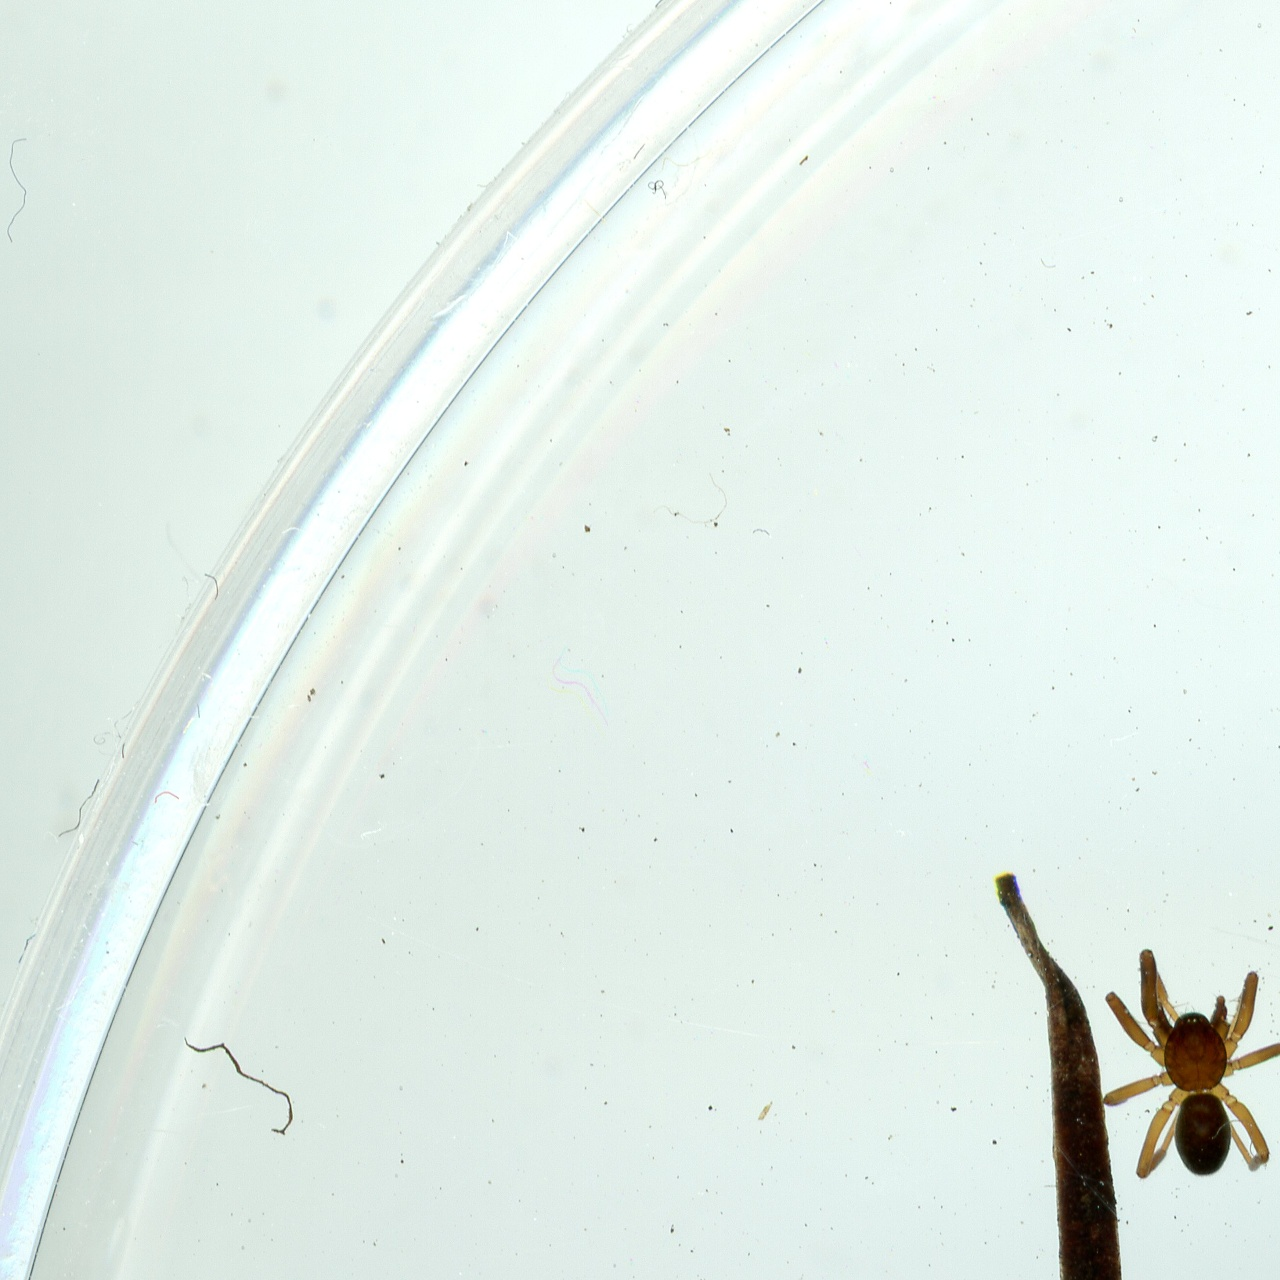arthropod: (1099, 945, 1280, 1185)
